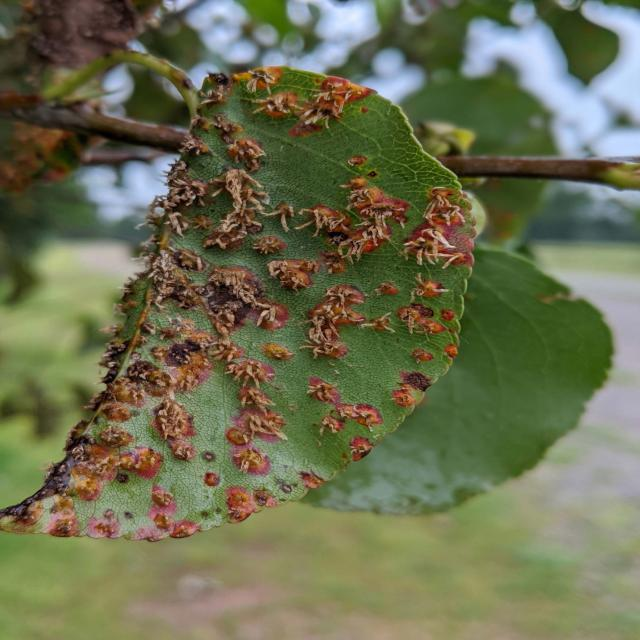leaf_rust: (0, 67, 475, 541), (335, 396, 557, 512)
